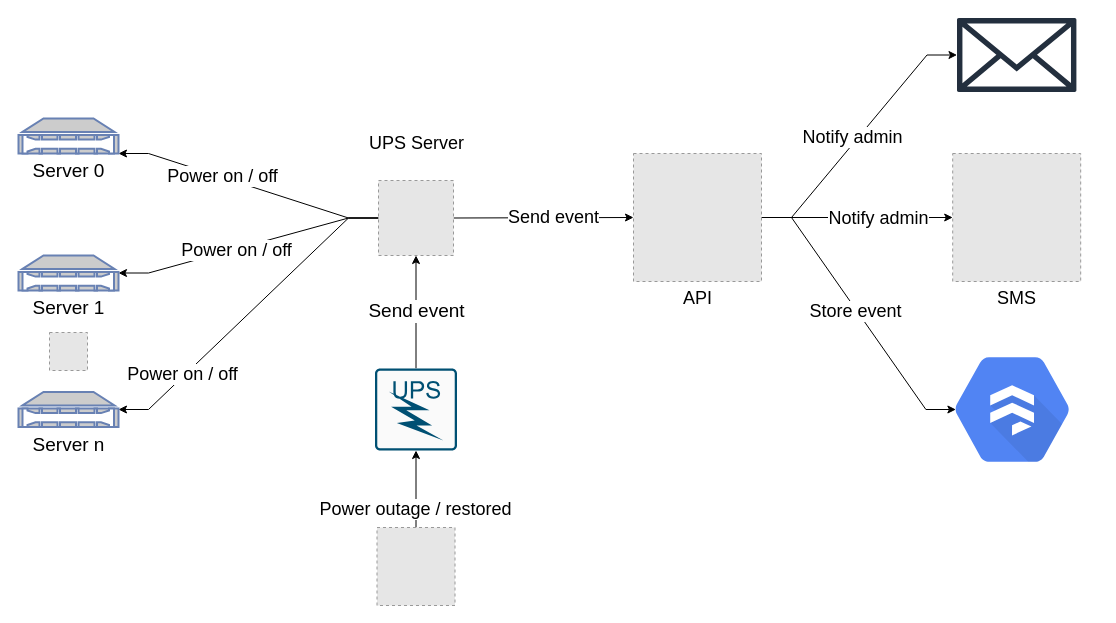
Some shapes in this 1116 by 623 pixel diagram are drawn without their labels. Grey dashed boxes stand in for pictures. The shapes that lost their labels are listed below. From the top down, each one's centre as x and y in pixels, then its label:
At point (1016, 54): "Email".
At point (1012, 409): "Database".
